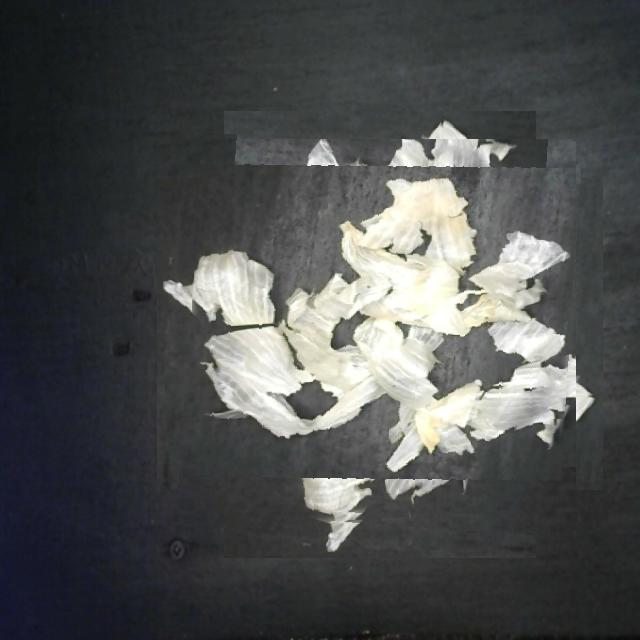biodegradable: (184, 139, 576, 530)
